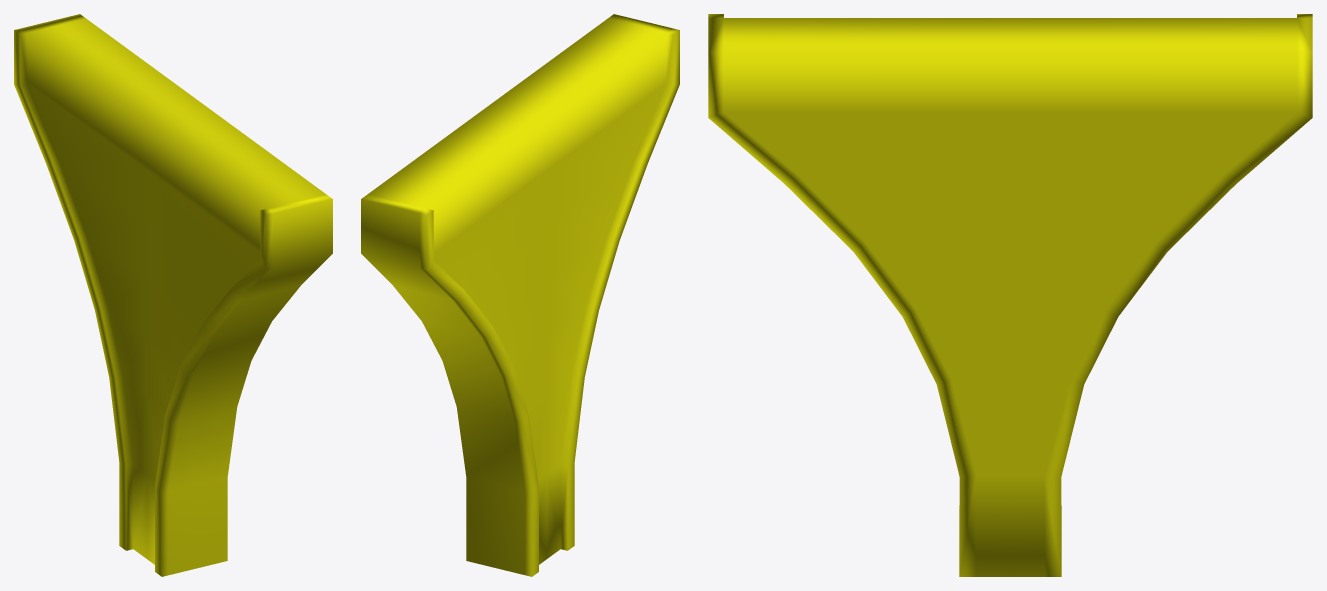
The model's file is Gateway_01.fbx.
The picture shows the model from 3 angles, left to right: view 1: azimuth 30°, elevation 25°; view 2: azimuth 150°, elevation 25°; view 3: azimuth 270°, elevation 25°; orthographic projection. The views are drawn at different scales.
Parts seen in each view (by area): view 1: Gateway_01; view 2: Gateway_01; view 3: Gateway_01.
Boxes of the visible parts, x1,y1,x2,y2 form: Gateway_01: [14, 14, 332, 576]; Gateway_01: [361, 14, 679, 576]; Gateway_01: [708, 14, 1312, 576].
Size of the model in its own units: 44.52 by 283 by 296.
